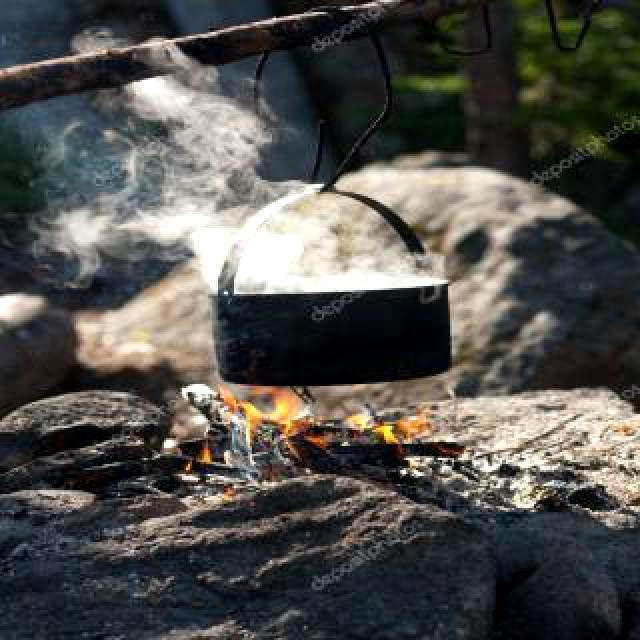Fire: (199, 376, 436, 478)
Smoke: (128, 60, 448, 287)
